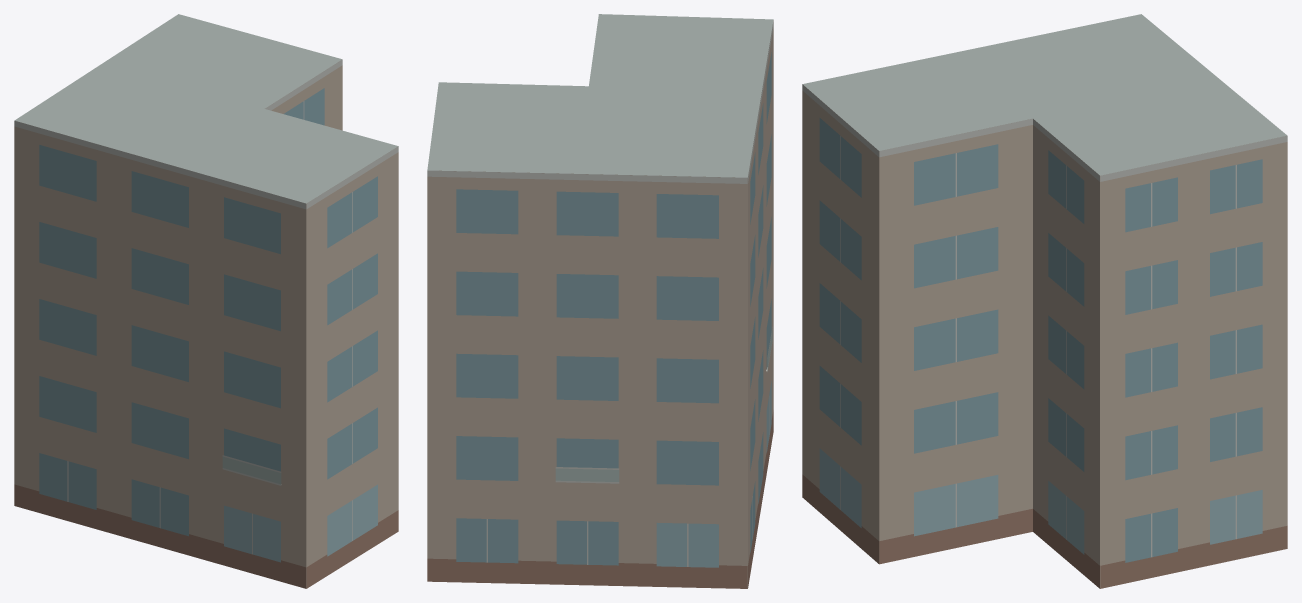
The model's file is survey-upis-33009869.glb.
3 views of the same model, side by side, from view 1: azimuth 30°, elevation 25°; view 2: azimuth 150°, elevation 25°; view 3: azimuth 270°, elevation 25° (orthographic). The views are drawn at different scales.
Parts seen in each view (by area): view 1: survey-upis-33009869.tmp; view 2: survey-upis-33009869.tmp; view 3: survey-upis-33009869.tmp.
Boxes of the visible parts, box(x1,y1,x2,y2) form: survey-upis-33009869.tmp: box(14, 14, 398, 588); survey-upis-33009869.tmp: box(427, 14, 773, 588); survey-upis-33009869.tmp: box(802, 14, 1287, 588).
Size of the model in its own units: 13.46 by 16.03 by 17.07.
